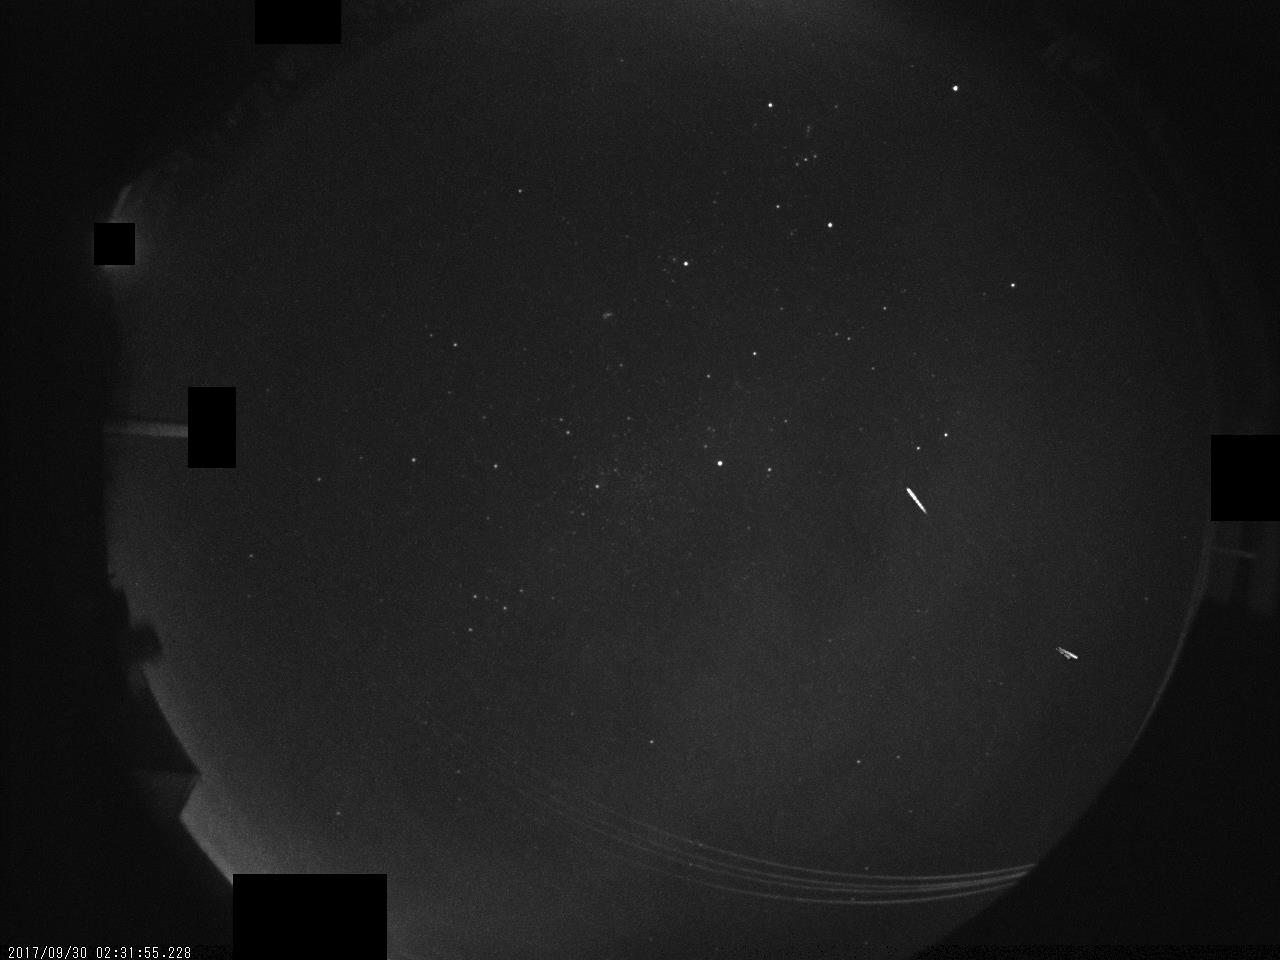TLE: (1047, 637, 1083, 665)
